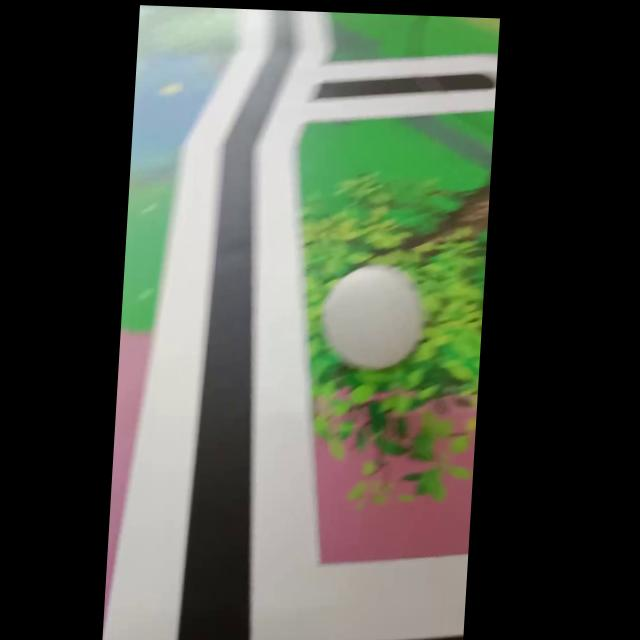white ball: (317, 261, 427, 372)
